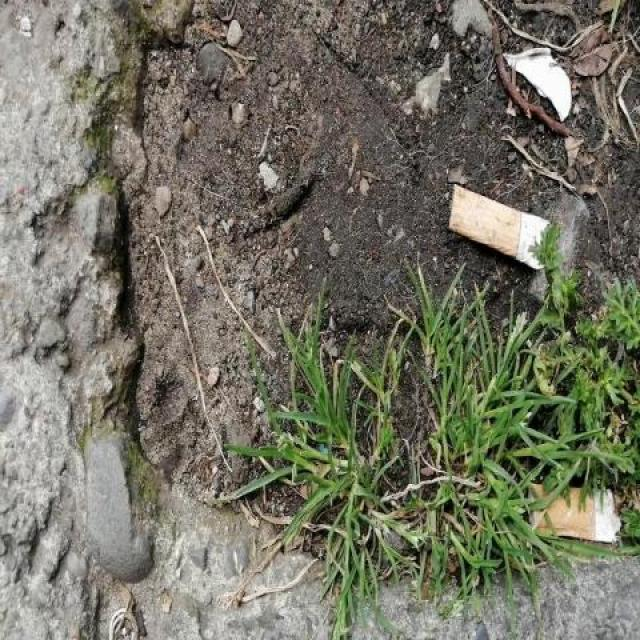non-organic waste: (440, 179, 555, 277), (522, 477, 626, 548)
